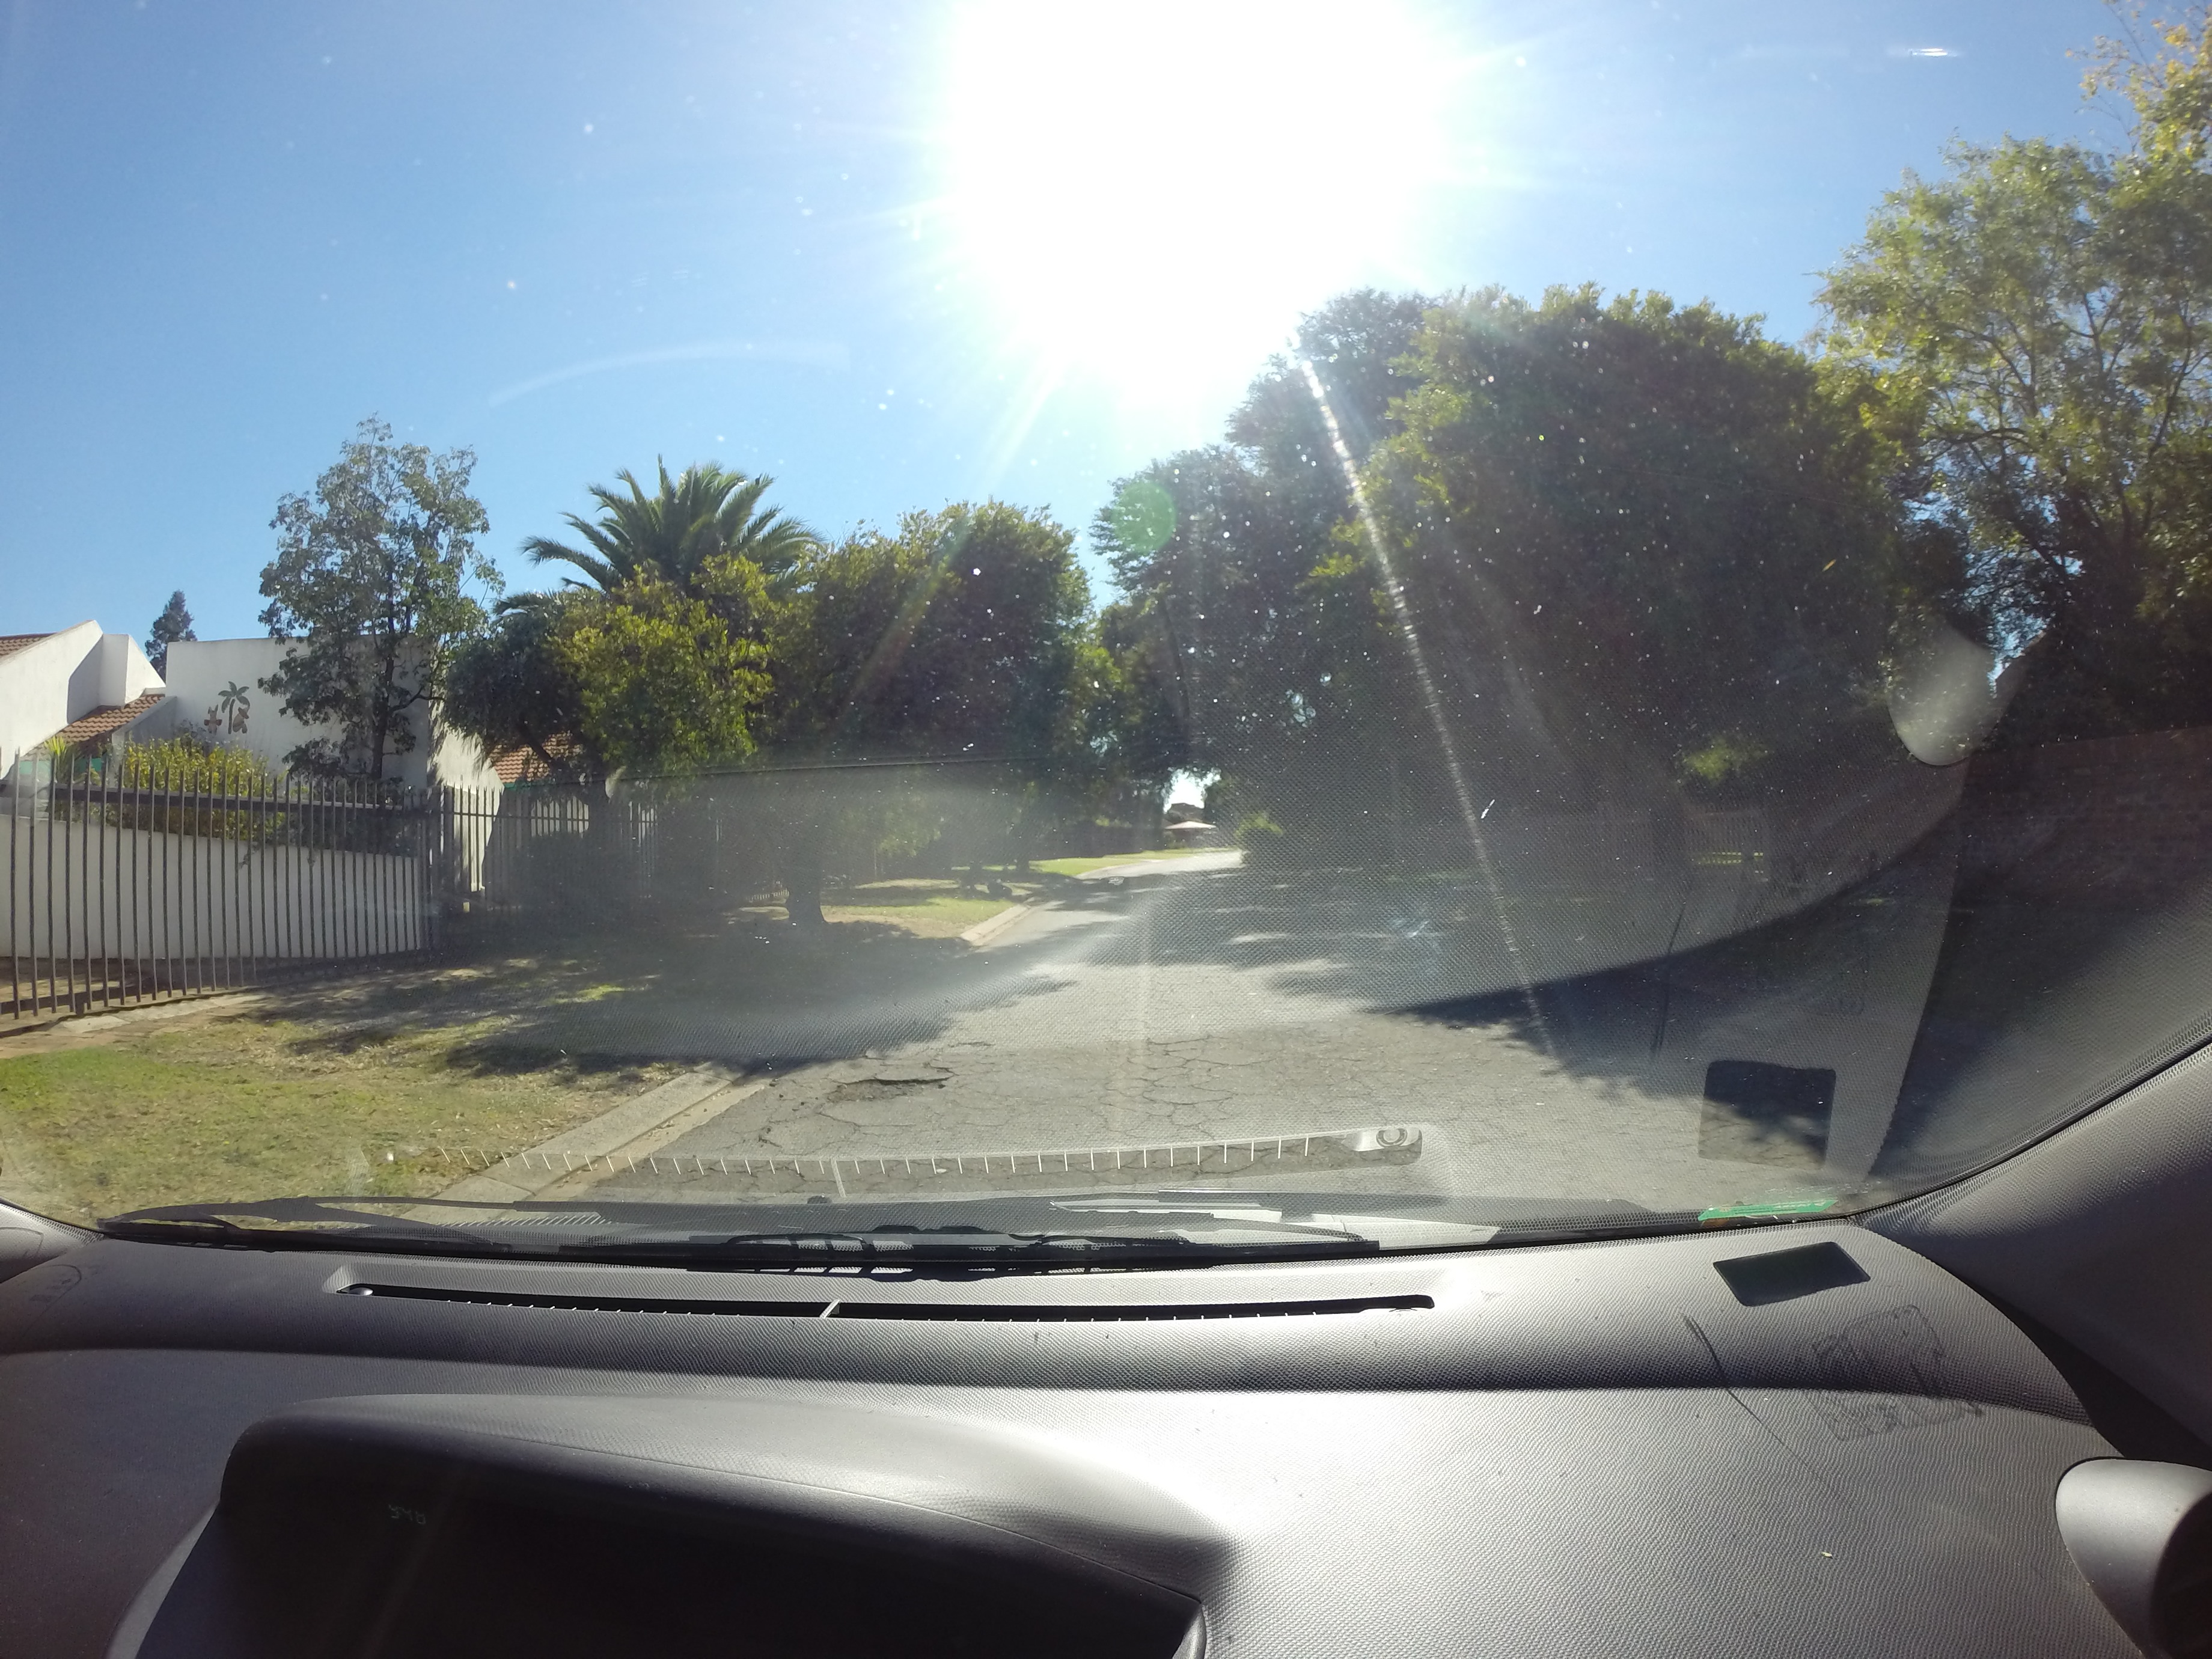pothole: (792, 1047, 1001, 1126)
